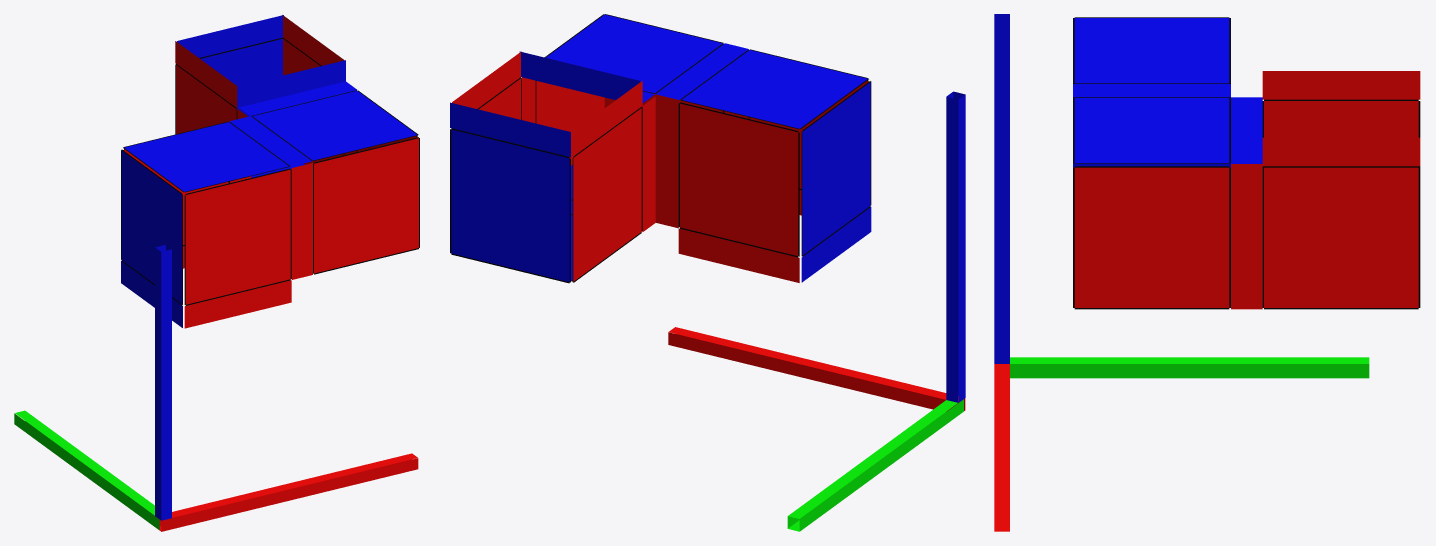
Rendered from move_s.gltf.
The picture shows the model from 3 angles, left to right: view 1: azimuth 30°, elevation 25°; view 2: azimuth 150°, elevation 25°; view 3: azimuth 270°, elevation 25°; orthographic projection. The views are drawn at different scales.
Parts seen in each view (by area): view 1: spider(0, 0, 1):-J, spider(1, 0, 1):-J, spider(1, 0, 1):+K, spider(0, 0, 1):+K, spider(0, 0, 1):-I, axisI:-J, axisK:-J, spider(1, 1, 1):-I, spider(1, 1, 1):+J, edgeK(0, 0, 0):-J, edgeI(0, 0, 1):-J, edgeK(1, 1, 1):-J (+11 smaller); view 2: spider(0, 0, 1):+J, spider(1, 1, 1):+J, spider(1, 1, 1):-I, spider(0, 0, 1):-I, spider(0, 0, 1):+K, spider(1, 0, 1):+K, axisK:+J, axisI:+J, edgeJ(0, 0, 0):+J, edgeJ(1, 1, 1):+J, edgeI(0, 0, 1):+J, edgeK(1, 1, 1):-J (+12 smaller); view 3: spider(1, 1, 1):+I, spider(1, 0, 1):+I, spider(0, 0, 1):+K, spider(1, 0, 1):+K, spider(1, 1, 1):-I, axisK:+I, axisJ:+I, edgeJ(1, 1, 1):+I, edgeJ(1, 1, 1):-I, edgeJ(1, 0, 1):+I, axisJ:+K, axisI:+K (+2 smaller).
Boxes of the visible parts, <box> form: spider(0, 0, 1):-J: <box>184,168,291,305</box>; spider(1, 0, 1):-J: <box>313,137,419,274</box>; spider(1, 0, 1):+K: <box>251,90,418,160</box>; spider(0, 0, 1):+K: <box>123,121,289,192</box>; spider(0, 0, 1):-I: <box>121,149,182,305</box>; axisI:-J: <box>161,458,418,531</box>; axisK:-J: <box>161,249,171,520</box>; spider(1, 1, 1):-I: <box>175,64,237,134</box>; spider(1, 1, 1):+J: <box>199,37,282,116</box>; edgeK(0, 0, 0):-J: <box>184,280,291,328</box>; edgeI(0, 0, 1):-J: <box>291,163,312,279</box>; edgeK(1, 1, 1):-J: <box>239,60,345,108</box>; spider(0, 0, 1):+J: <box>678,102,799,257</box>; spider(1, 1, 1):+J: <box>450,128,570,283</box>; spider(1, 1, 1):-I: <box>572,107,642,282</box>; spider(0, 0, 1):-I: <box>801,81,871,256</box>; spider(0, 0, 1):+K: <box>680,49,868,129</box>; spider(1, 0, 1):+K: <box>544,14,723,93</box>; axisK:+J: <box>946,96,958,402</box>; axisI:+J: <box>668,332,957,411</box>; edgeJ(0, 0, 0):+J: <box>678,228,799,282</box>; edgeJ(1, 1, 1):+J: <box>450,102,570,157</box>; edgeI(0, 0, 1):+J: <box>654,96,678,228</box>; edgeK(1, 1, 1):-J: <box>519,51,640,99</box>; spider(1, 1, 1):+I: <box>1262,166,1420,309</box>; spider(1, 0, 1):+I: <box>1073,166,1230,309</box>; spider(0, 0, 1):+K: <box>1073,17,1230,83</box>; spider(1, 0, 1):+K: <box>1073,97,1230,163</box>; spider(1, 1, 1):-I: <box>1262,99,1420,167</box>; axisK:+I: <box>994,20,1009,363</box>; axisJ:+I: <box>1010,364,1369,378</box>; edgeJ(1, 1, 1):+I: <box>1262,137,1420,166</box>; edgeJ(1, 1, 1):-I: <box>1262,71,1420,99</box>; edgeJ(1, 0, 1):+I: <box>1231,166,1262,309</box>; axisJ:+K: <box>1010,357,1369,363</box>; axisI:+K: <box>994,364,1009,517</box>.
Size of the model in its own units: 2.71 by 2.9 by 2.71.
